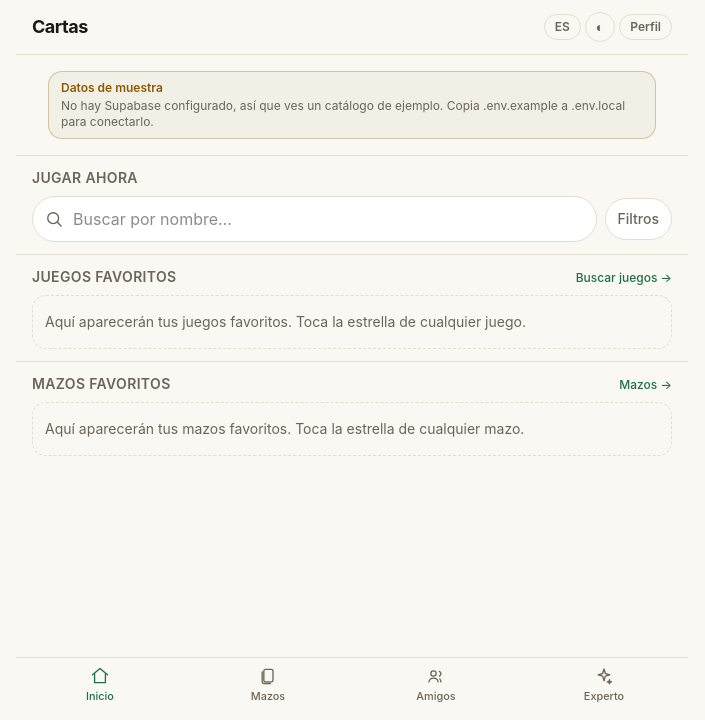
Scenario: home › narrows the list as you type
Type "bris" into the search field named "Buscar juegos" at (314, 219), box [32,196,597,242]
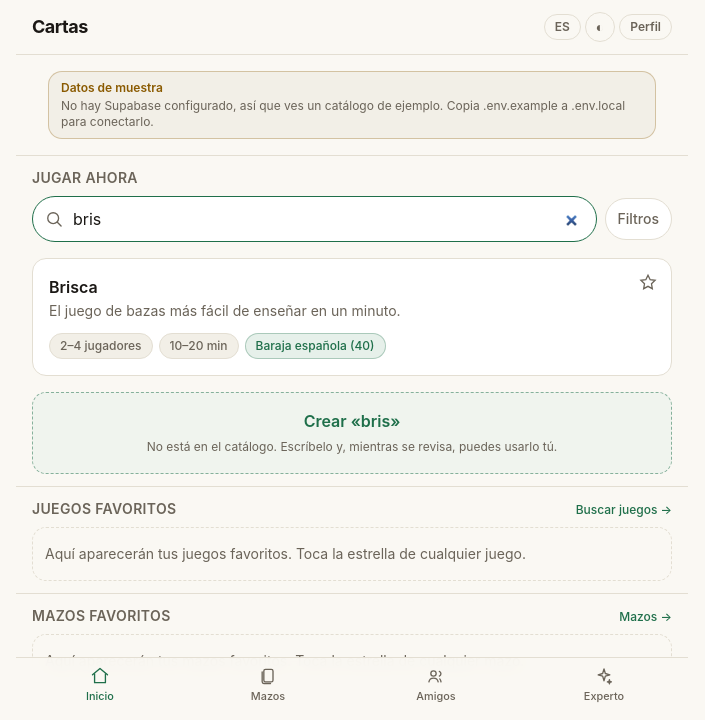
Result: the heading "Brisca" is shown at [49,275,98,299]
